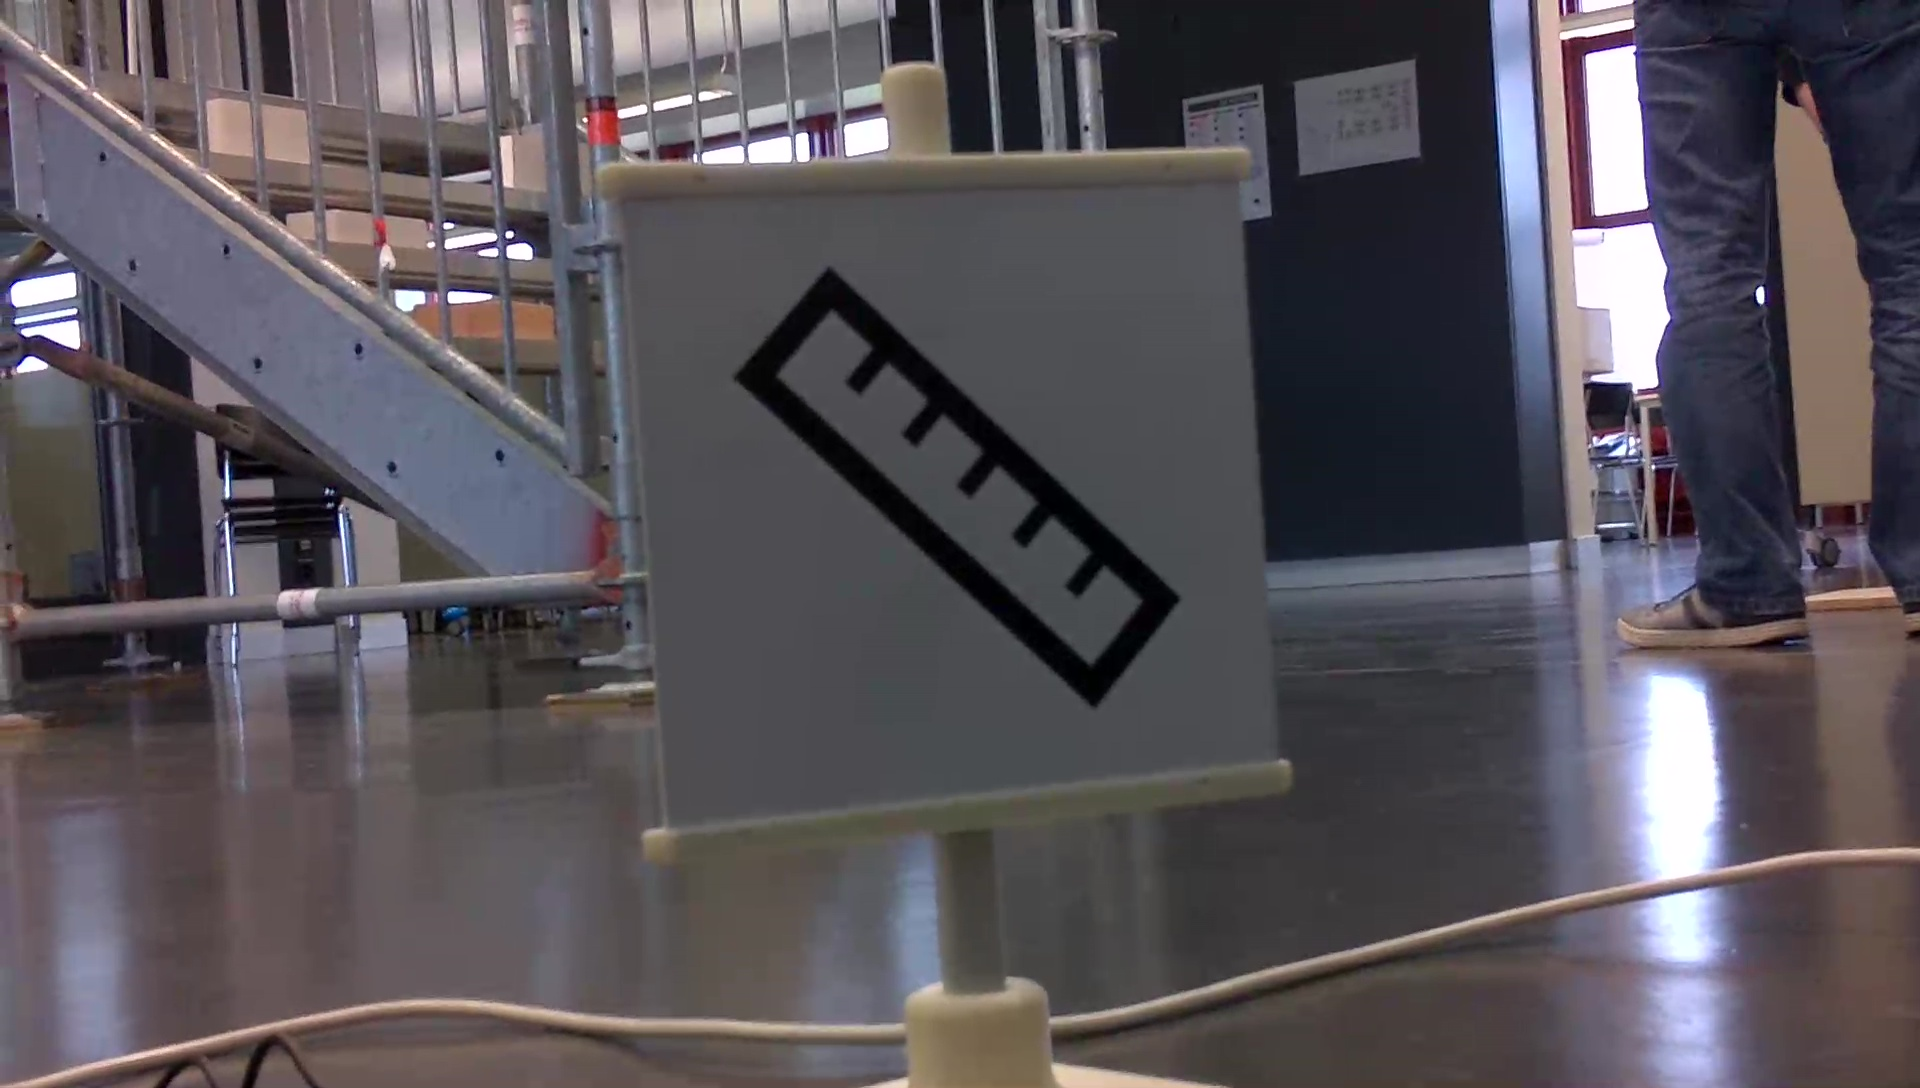ruler: (723, 249, 1193, 708)
